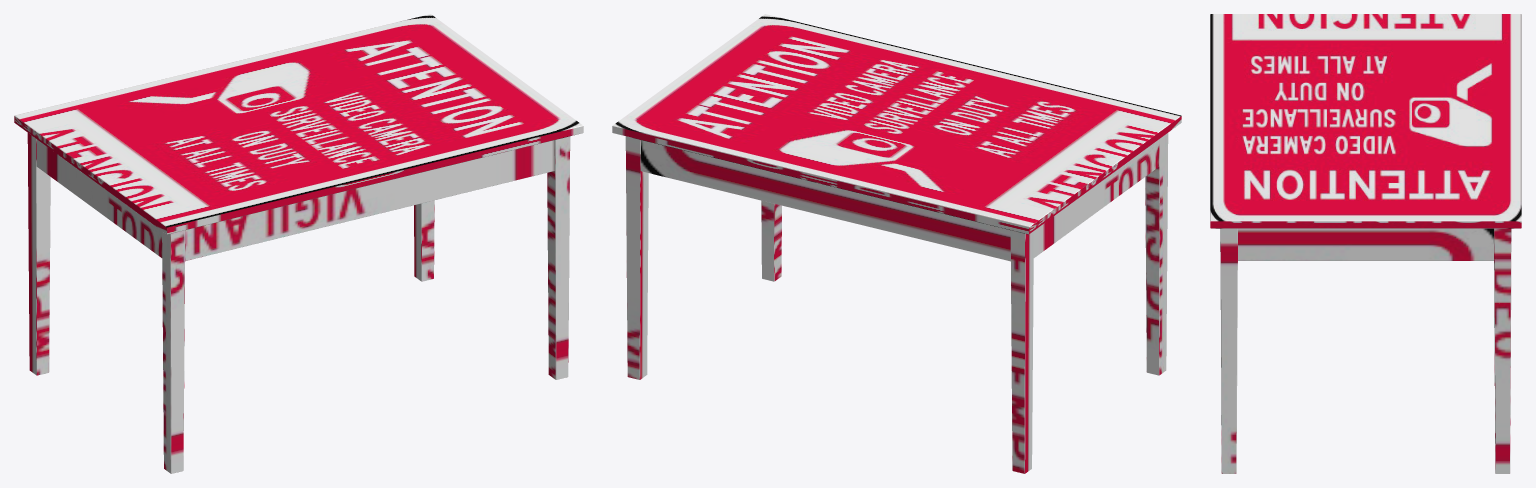
File: Table.FBX
3 renders of one model, left to right at view 1: azimuth 30°, elevation 25°; view 2: azimuth 150°, elevation 25°; view 3: azimuth 270°, elevation 25°, orthographic.
Visible parts, largest first — view 1: Table; view 2: Table; view 3: Table.
Boxes of the visible parts, <box> form: Table: <box>14,14,583,473</box>; Table: <box>612,14,1181,473</box>; Table: <box>1210,14,1521,473</box>.
Bounding box in the file's own units: 1521 × 884 × 965.
